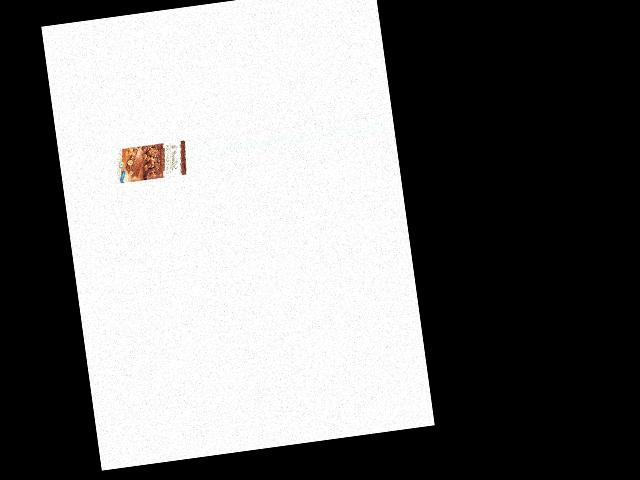chocolate: (114, 135, 187, 186)
